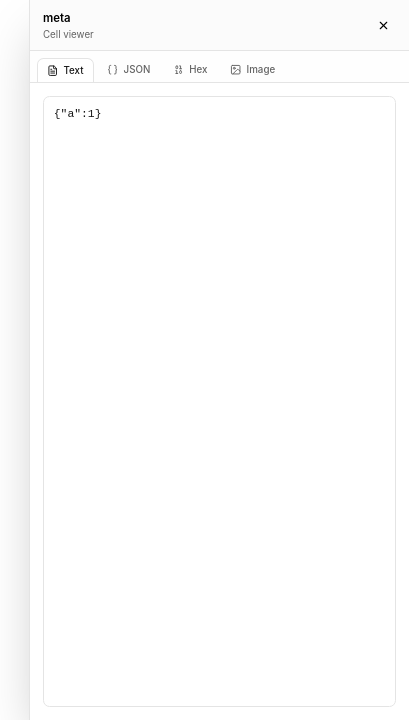
Scenario: CellViewerPanel › JSON tab pretty-prints valid JSON
This screenshot has width=409, height=720.
Click the button "JSON": [129, 70] box [98,58,160,81]
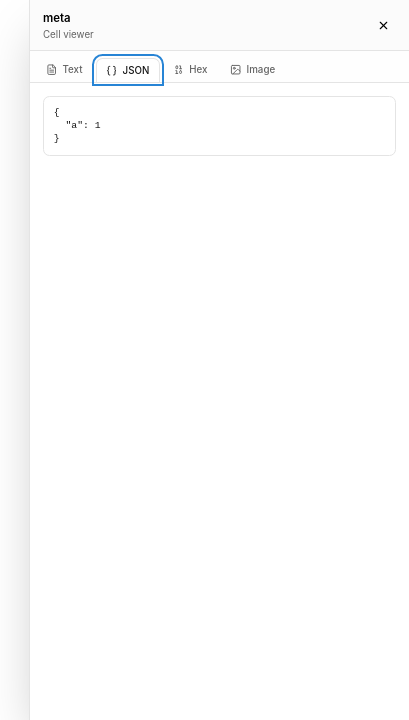
Result: the text "{ \"a\": 1 }" is shown at [43,96,396,156]
